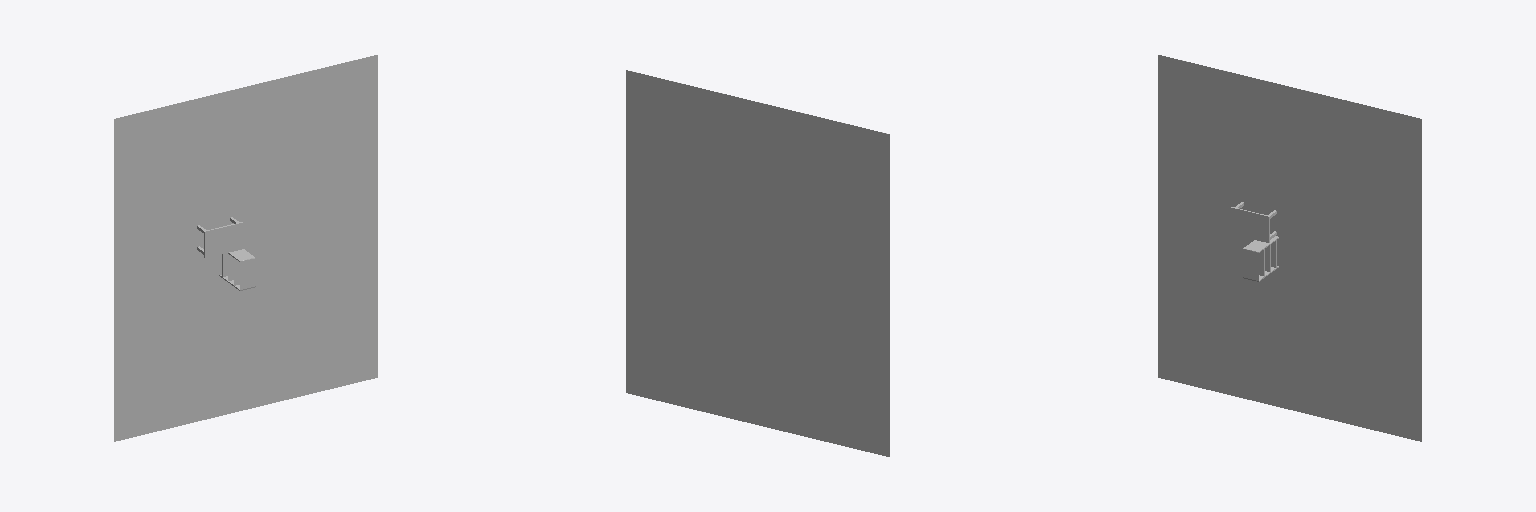
File: bookshelves_table_center-acd-floor.obj
3 views of the same model, side by side, from view 1: azimuth 30°, elevation 25°; view 2: azimuth 150°, elevation 25°; view 3: azimuth 330°, elevation 25° (orthographic).
Visible parts, largest first — view 1: convex_7.006, convex_0.007; view 2: convex_7.006; view 3: convex_7.006, convex_0.007.
Part boxes in pixels (x1,y1,x2,y2): convex_7.006: (114,55,377,441); convex_0.007: (204,226,227,257); convex_7.006: (626,70,889,456); convex_7.006: (1158,55,1421,441); convex_0.007: (1231,207,1254,239).
Size of the model in its own units: 10.44 by 12.2 by 1.43.